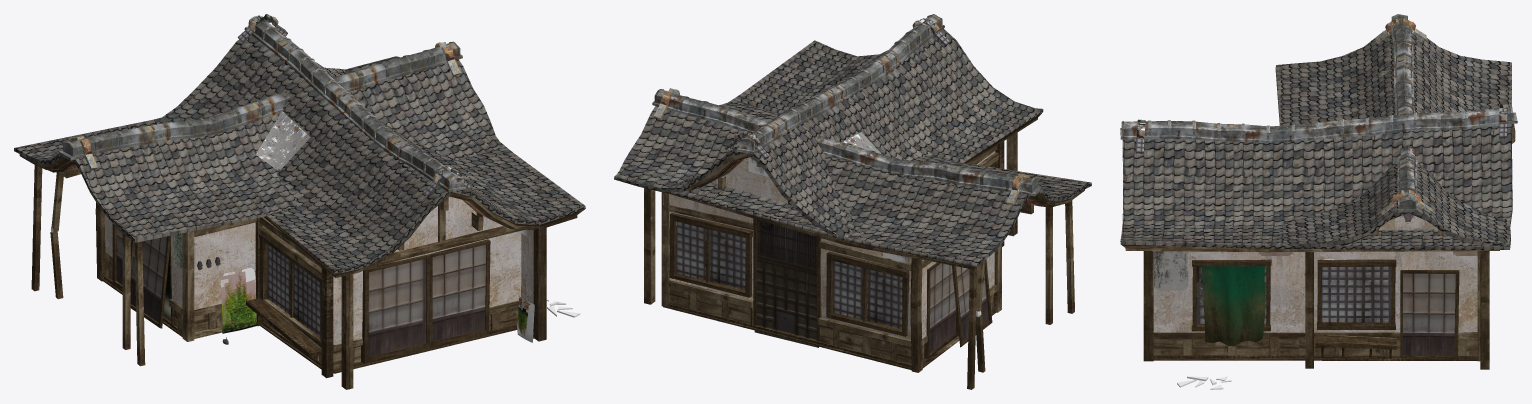
Rendered from jp-trad.glb.
3 renders of one model, left to right at view 1: azimuth 30°, elevation 25°; view 2: azimuth 150°, elevation 25°; view 3: azimuth 270°, elevation 25°, orthographic. The views are drawn at different scales.
Visible parts, largest first — view 1: Object_2; view 2: Object_2; view 3: Object_2.
Boxes of the visible parts, x1,y1,x2,y2 form: Object_2: (14,14,585,389); Object_2: (614,14,1091,389); Object_2: (1120,14,1517,389).
Size of the model in its own units: 12 by 6.14 by 10.41.
Materials: 7 (6 with a texture image).
